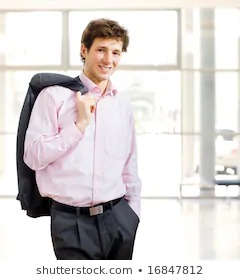F_belt: (43, 197, 130, 215)
F_dress pants: (49, 200, 140, 261)
F_shirt: (17, 75, 145, 216)
